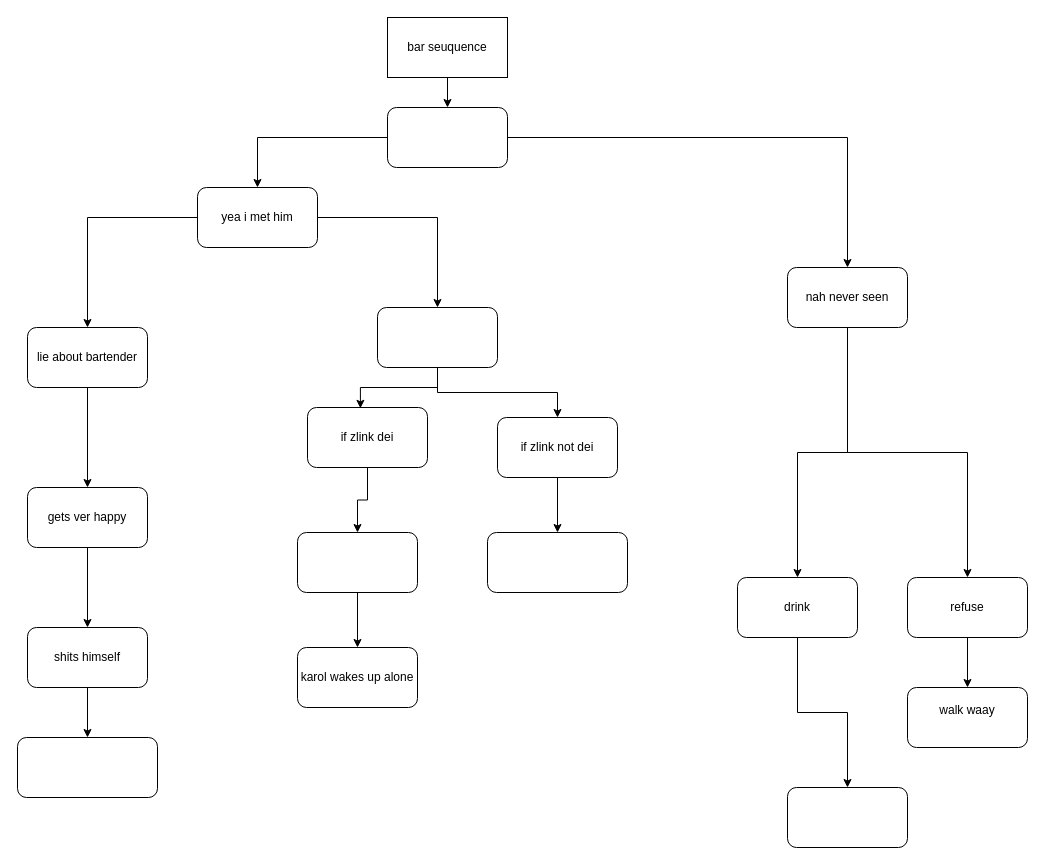
The diagram is 1045 pixels wide and 865 high, and some of its shapes have lost their labels. The box of each missing label's shape, as (x1, y1, x2, y2) in pixels:
ask if u met his brother: (386, 106, 508, 168)
drugs karol: (296, 532, 418, 592)
karol beats him close to death: (786, 786, 908, 848)
karol walk away and bartender sad: (486, 532, 628, 592)
karol walk away and bartender shitting: (16, 736, 158, 798)
tell the truth: (376, 306, 498, 368)
